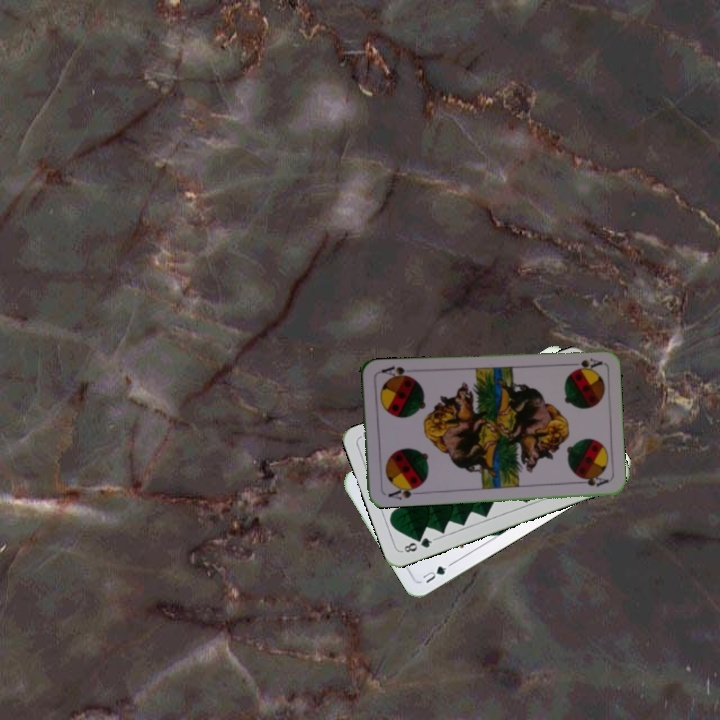G8: (398, 533, 437, 555)
GU: (418, 562, 449, 586)
SA: (384, 482, 422, 502), (564, 354, 604, 372)
